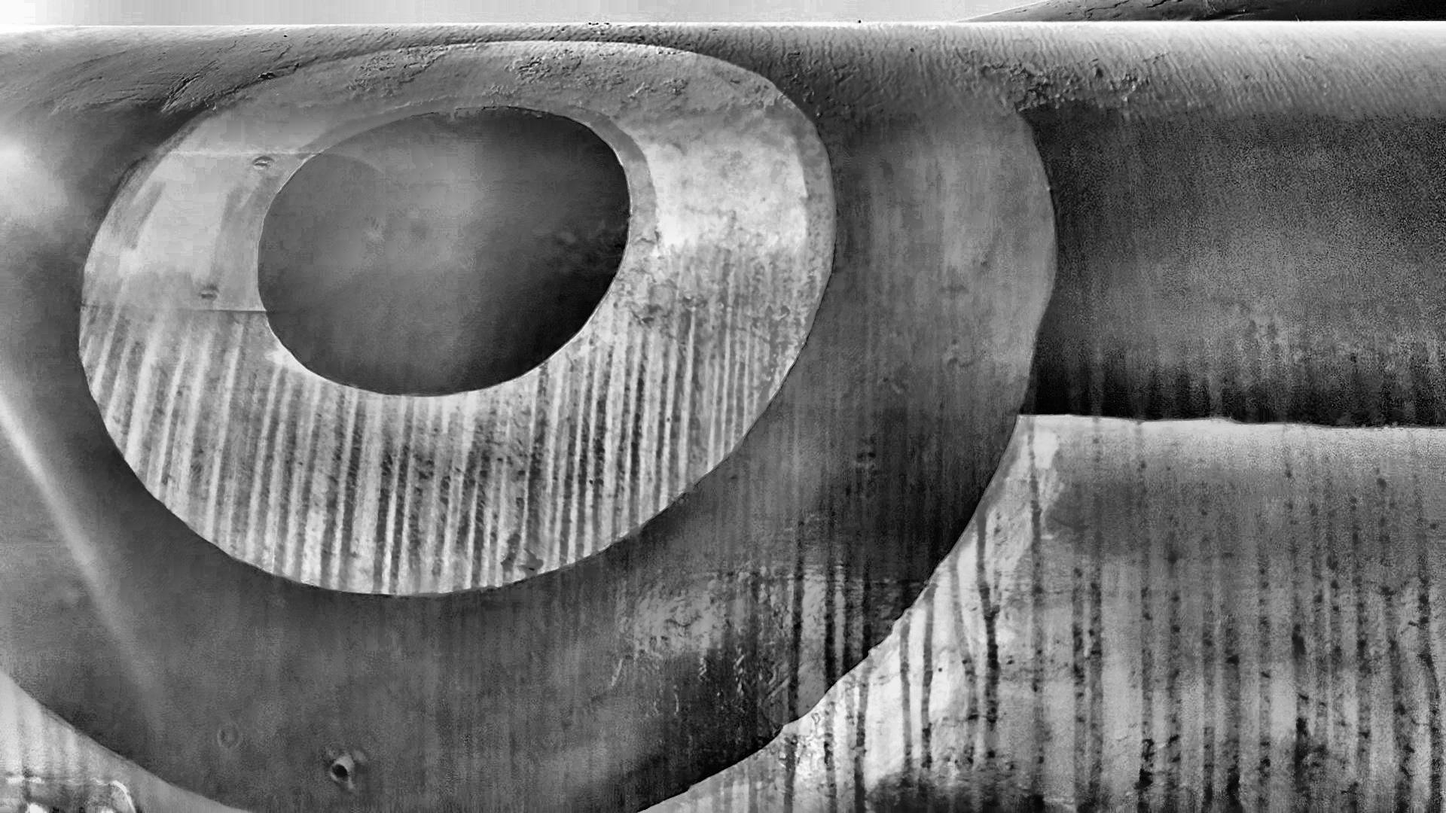paint-peel-off: (501, 550, 545, 572), (1017, 61, 1047, 93)
